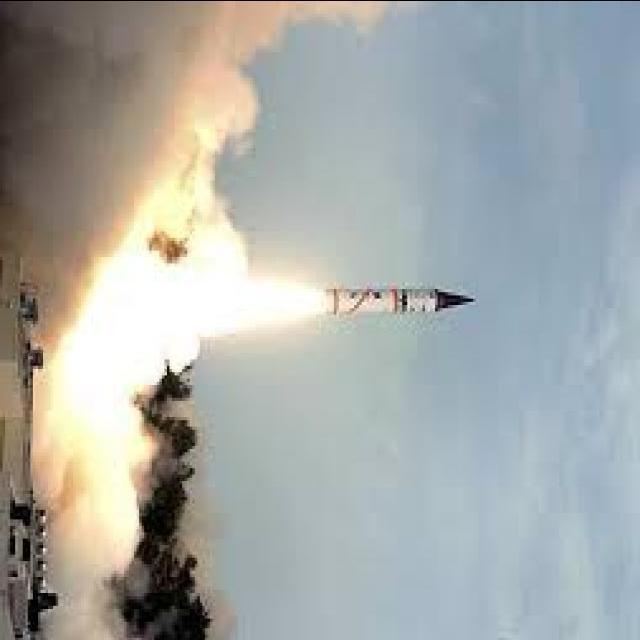missile: (320, 280, 482, 326)
